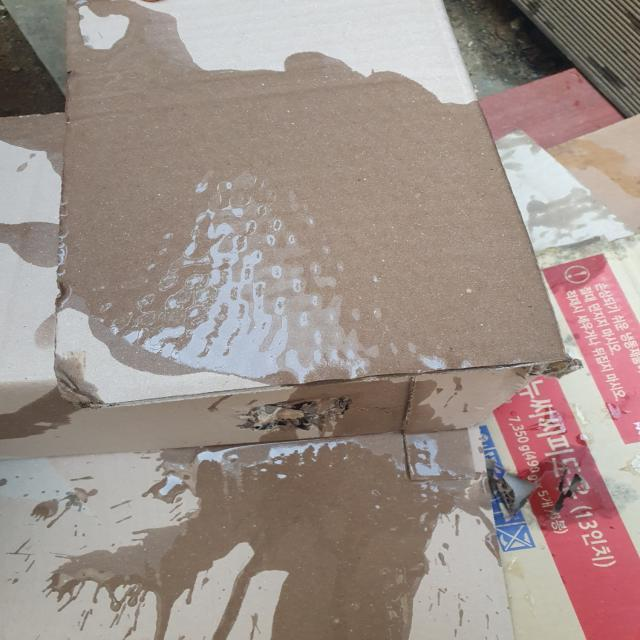wet: (63, 0, 536, 401)
